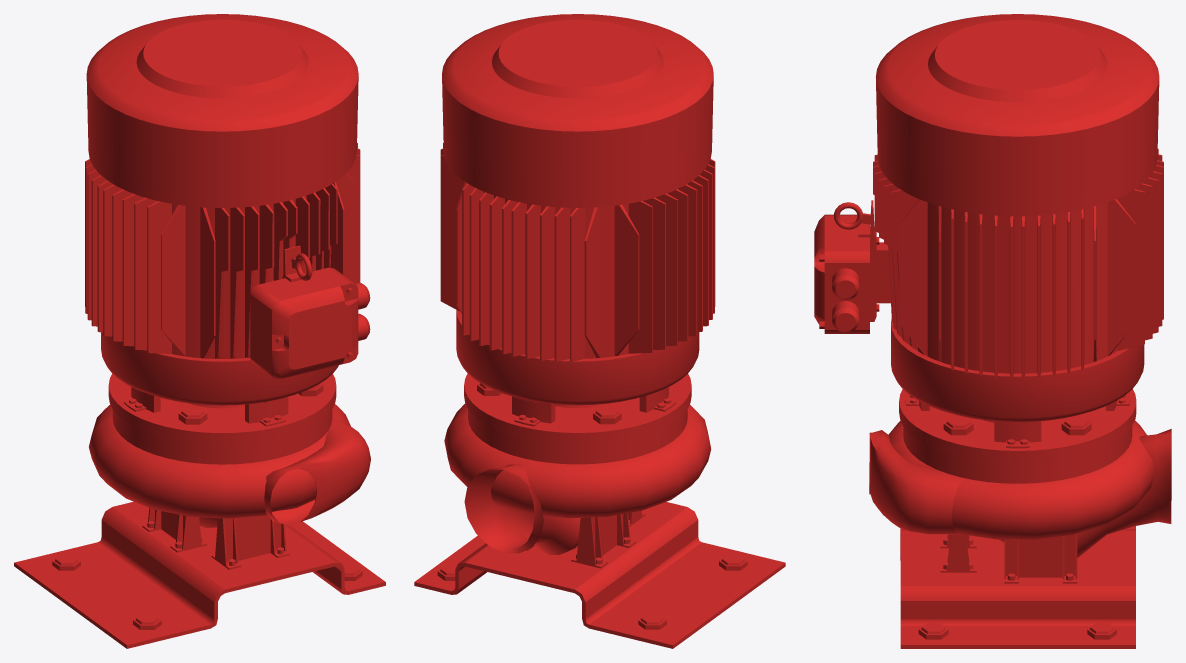
Rendered from Pump_Main.fbx.
The picture shows the model from 3 angles, left to right: view 1: azimuth 30°, elevation 25°; view 2: azimuth 150°, elevation 25°; view 3: azimuth 270°, elevation 25°; orthographic projection. The views are drawn at different scales.
Parts seen in each view (by area): view 1: Pump-Main; view 2: Pump-Main; view 3: Pump-Main.
Part boxes in pixels (bbox=[...]): Pump-Main: bbox=[14, 14, 385, 648]; Pump-Main: bbox=[414, 14, 785, 648]; Pump-Main: bbox=[814, 14, 1171, 648].
Bounding box in the file's own units: 30.67 × 55.62 × 33.26.
